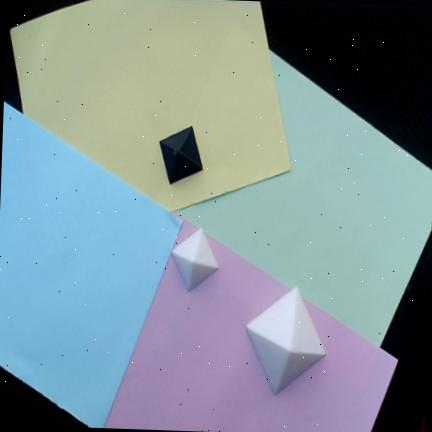Piramide: (245, 285, 326, 396), (172, 227, 219, 292), (160, 126, 203, 185)
